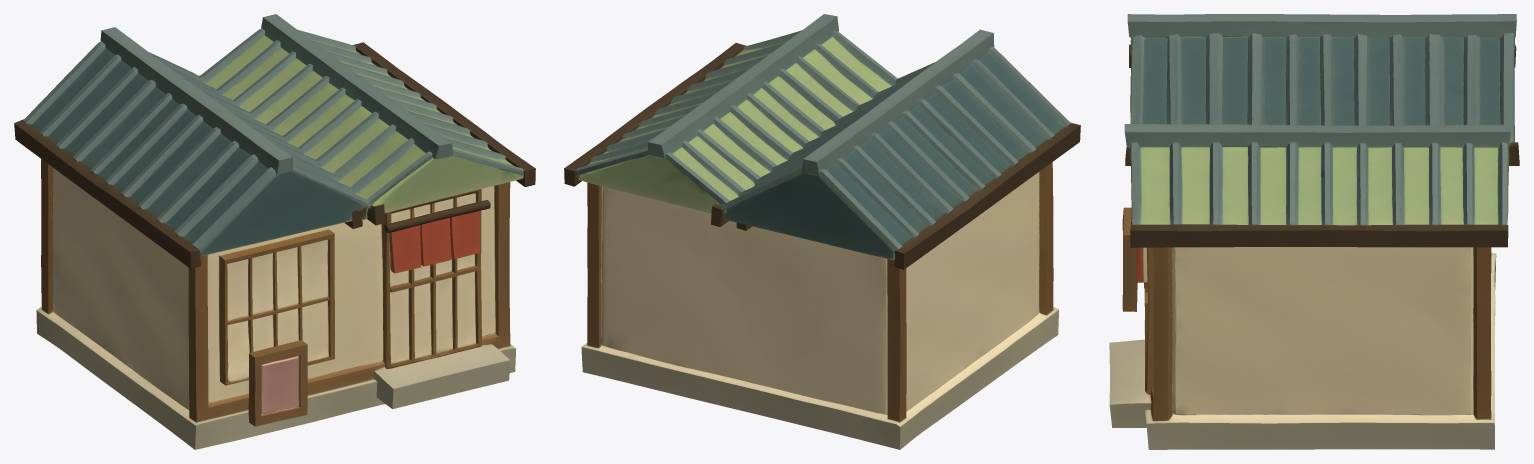
The model's file is source.glb.
The picture shows the model from 3 angles, left to right: view 1: azimuth 30°, elevation 25°; view 2: azimuth 150°, elevation 25°; view 3: azimuth 270°, elevation 25°; orthographic projection. The views are drawn at different scales.
Parts seen in each view (by area): view 1: model; view 2: model; view 3: model.
Part boxes in pixels (left/top/right/bottom): model: left=14, top=14, right=535, bottom=449; model: left=564, top=14, right=1080, bottom=449; model: left=1109, top=14, right=1519, bottom=449.
Size of the model in its own units: 1.9 by 1.46 by 1.78.
Materials: 1 (1 with a texture image).
